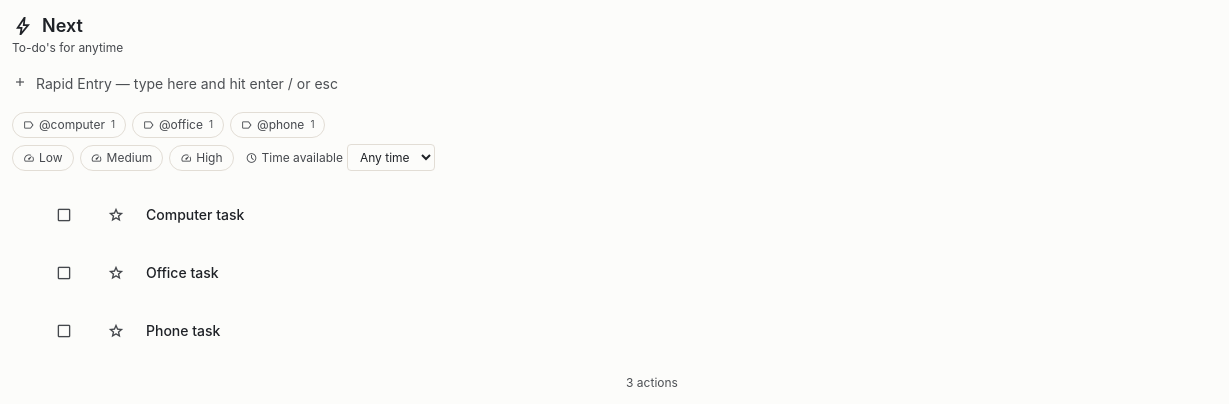
Test: ActionList › multiple context selection uses OR logic
Click the checkbox labelled "@phone 1": click(278, 125) [230, 112, 325, 138]
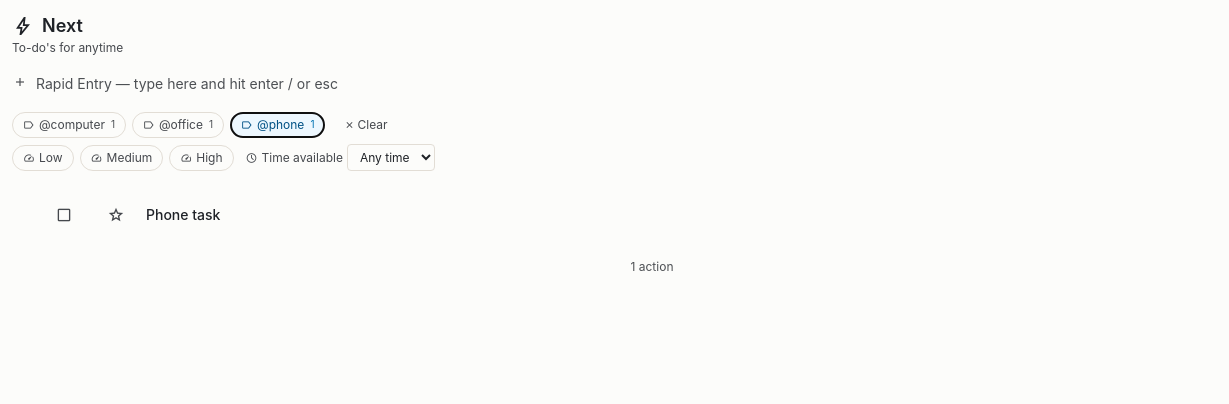
Click the checkbox labelled "@computer 1": click(69, 125) [12, 112, 126, 138]
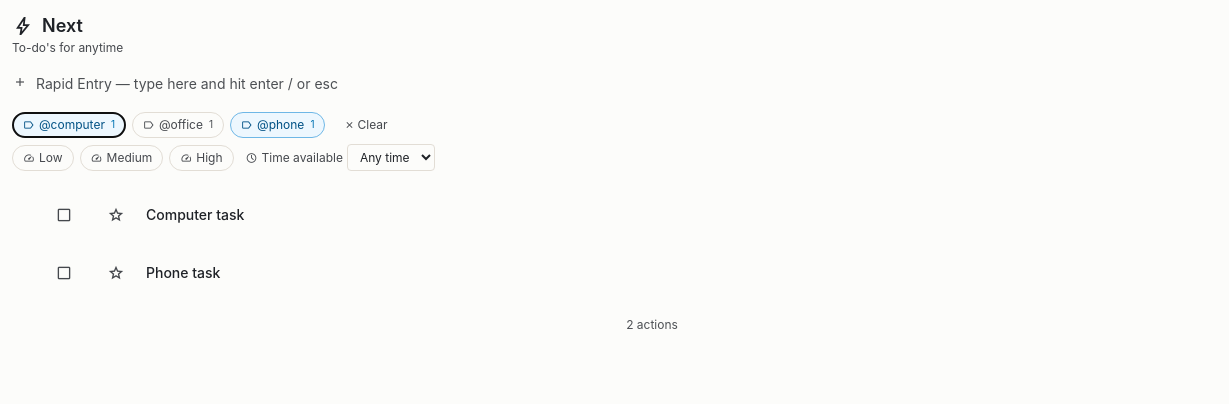
Expected: the button "Phone task" is shown, [146, 263, 1212, 283]
Result: the button "Computer task" is shown at [146, 205, 1212, 225]
